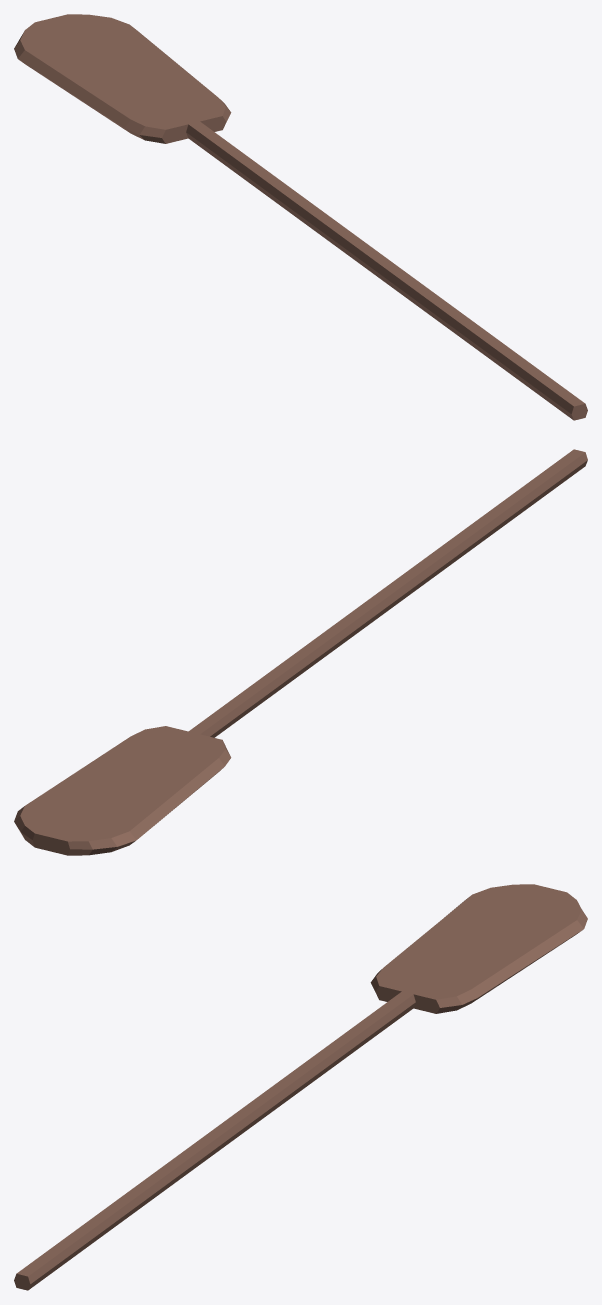
File: paddle.fbx
3 renders of one model, top to bottom at view 1: azimuth 30°, elevation 25°; view 2: azimuth 150°, elevation 25°; view 3: azimuth 330°, elevation 25°, orthographic.
Visible parts, largest first — view 1: paddle; view 2: paddle; view 3: paddle.
Boxes of the visible parts, x1=… form: paddle: x1=14, y1=14, x2=587, y2=420; paddle: x1=14, y1=449, x2=587, y2=855; paddle: x1=14, y1=884, x2=587, y2=1290.
Bounding box in the file's own units: 69.29 × 533 × 7.88.
